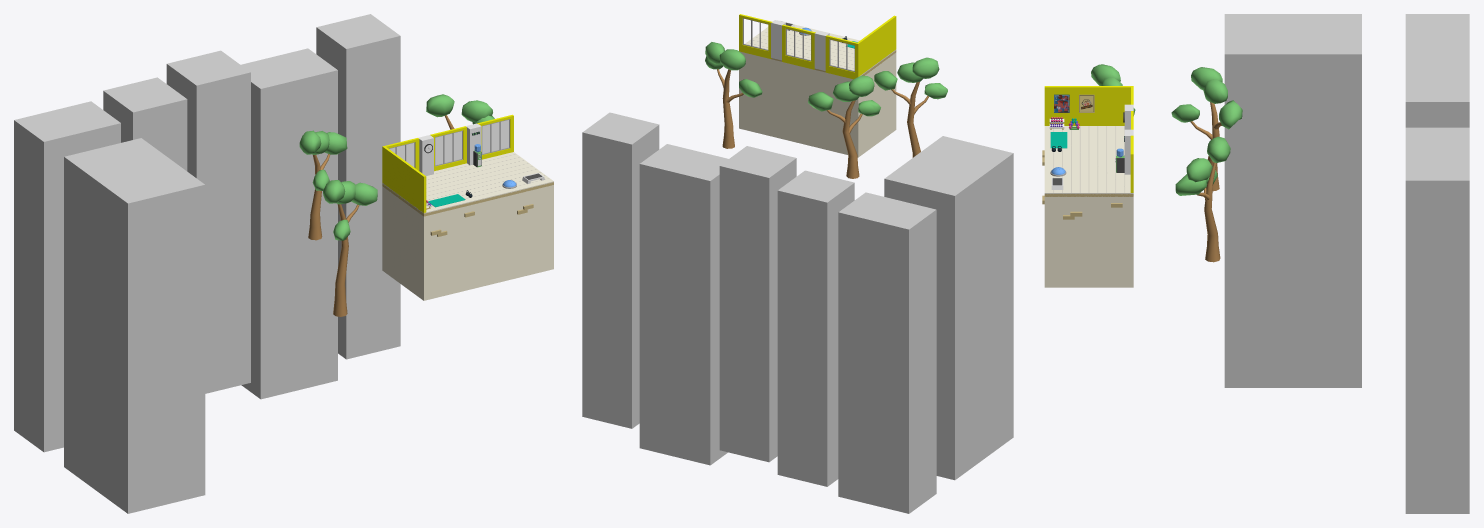
The model's file is gym2.gltf.
The picture shows the model from 3 angles, left to right: view 1: azimuth 30°, elevation 25°; view 2: azimuth 150°, elevation 25°; view 3: azimuth 270°, elevation 25°; orthographic projection. The views are drawn at different scales.
Visible parts, largest first — view 1: Box461, Box457, Box460, Box456, Box459, Box350, Box458, Box341, Box262, Cylinder247, Plane006, Plane005 (+1 smaller); view 2: Box460, Box461, Box457, Box458, Box456, Box459, Box350, Box341, Box262, Cylinder177, Cylinder180, Box296 (+3 smaller); view 3: Box461, Box459, Box350, Box341, Box456, Box262, Box460, Box457, Box458, Cylinder180, Sphere024, Sphere022 (+2 smaller).
Boxes of the visible parts, x1,y1,x2,y2 form: Box461: [64, 138, 205, 513]; Box457: [241, 48, 337, 399]; Box460: [14, 101, 120, 452]; Box456: [166, 50, 250, 393]; Box459: [316, 14, 400, 359]; Box350: [382, 185, 553, 300]; Box458: [103, 77, 187, 170]; Box341: [382, 152, 553, 213]; Box262: [382, 146, 426, 213]; Cylinder247: [333, 204, 348, 316]; Plane006: [482, 120, 508, 153]; Plane005: [435, 131, 461, 164]; Box460: [838, 192, 936, 513]; Box461: [884, 136, 1013, 480]; Box457: [639, 144, 728, 465]; Box458: [777, 170, 854, 486]; Box456: [719, 146, 796, 462]; Box459: [582, 112, 659, 428]; Box350: [739, 51, 896, 157]; Box341: [745, 20, 896, 76]; Box262: [856, 15, 896, 77]; Cylinder177: [842, 100, 859, 178]; Cylinder180: [722, 69, 734, 148]; Box296: [782, 24, 815, 69]; Box461: [1224, 14, 1361, 387]; Box459: [1405, 152, 1469, 513]; Box350: [1044, 196, 1133, 287]; Box341: [1044, 126, 1133, 194]; Box456: [1405, 73, 1469, 127]; Box262: [1044, 86, 1130, 125]; Box460: [1405, 14, 1469, 52]; Box457: [1405, 127, 1469, 151]; Box458: [1405, 52, 1469, 73]; Cylinder180: [1204, 162, 1220, 262]; Sphere024: [1186, 158, 1212, 182]; Sphere022: [1207, 136, 1230, 162].
Size of the model in its own units: 0.9803 by 0.9108 by 0.9472.
19 materials, 6 textured.
